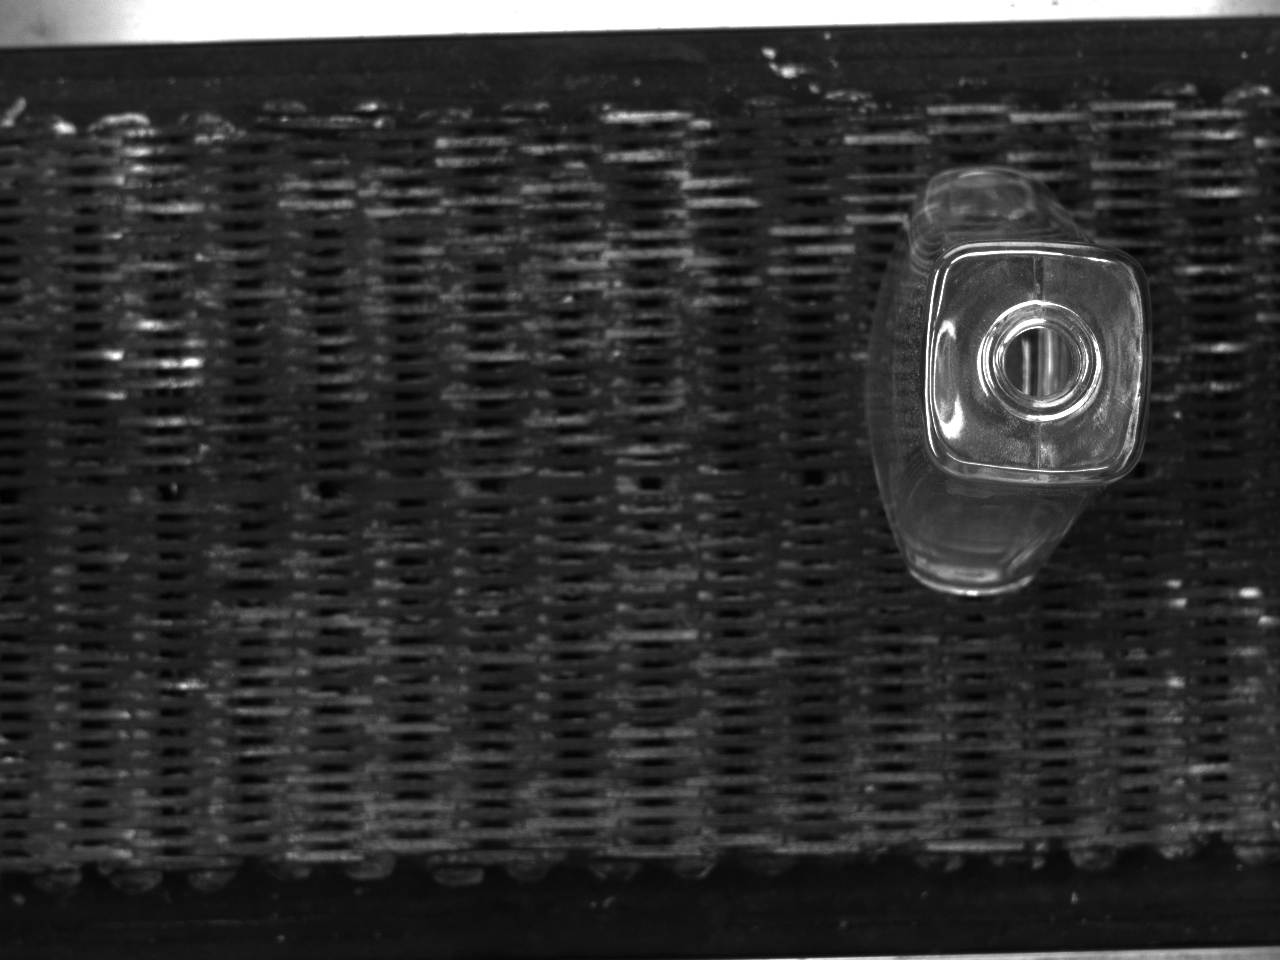bottleneck: (984, 301, 1103, 423)
